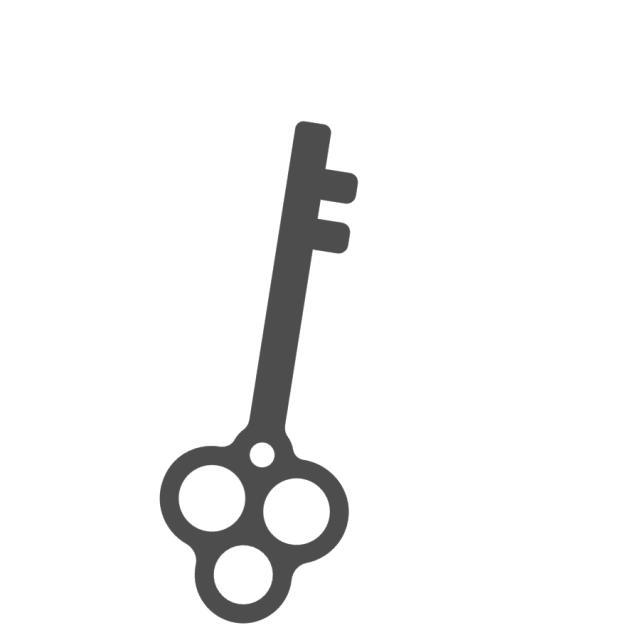key: (149, 119, 368, 627)
